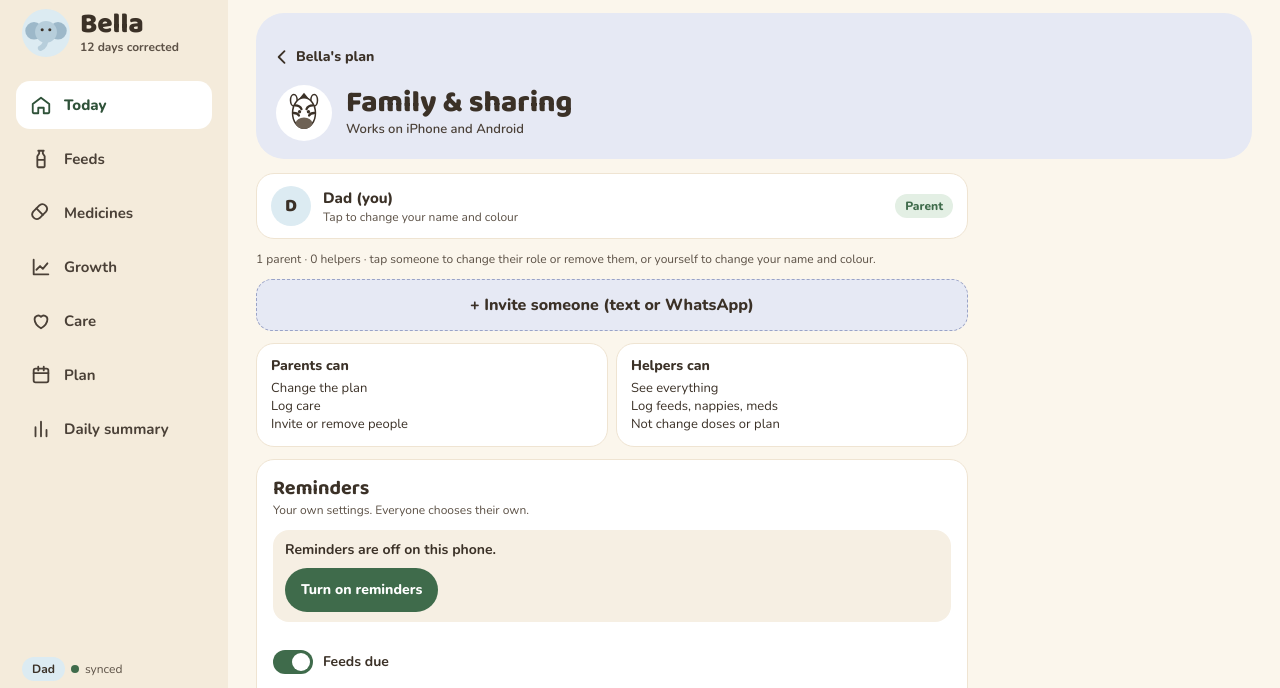
Reminders card › turns reminders on for this phone after a tap, then offers a test
Click the button "Turn on reminders": (362, 590) [285,568,438,612]
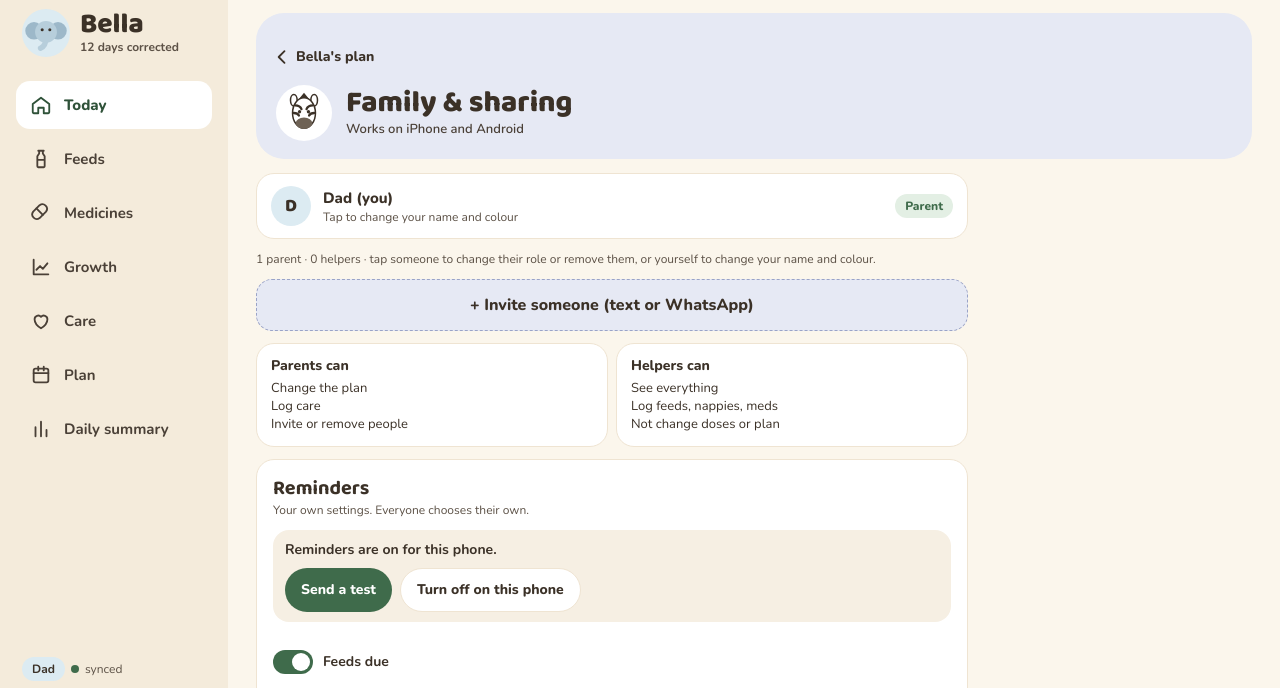
Click the button "Send a test": (338, 590) [285,568,392,612]
(page scrolled)
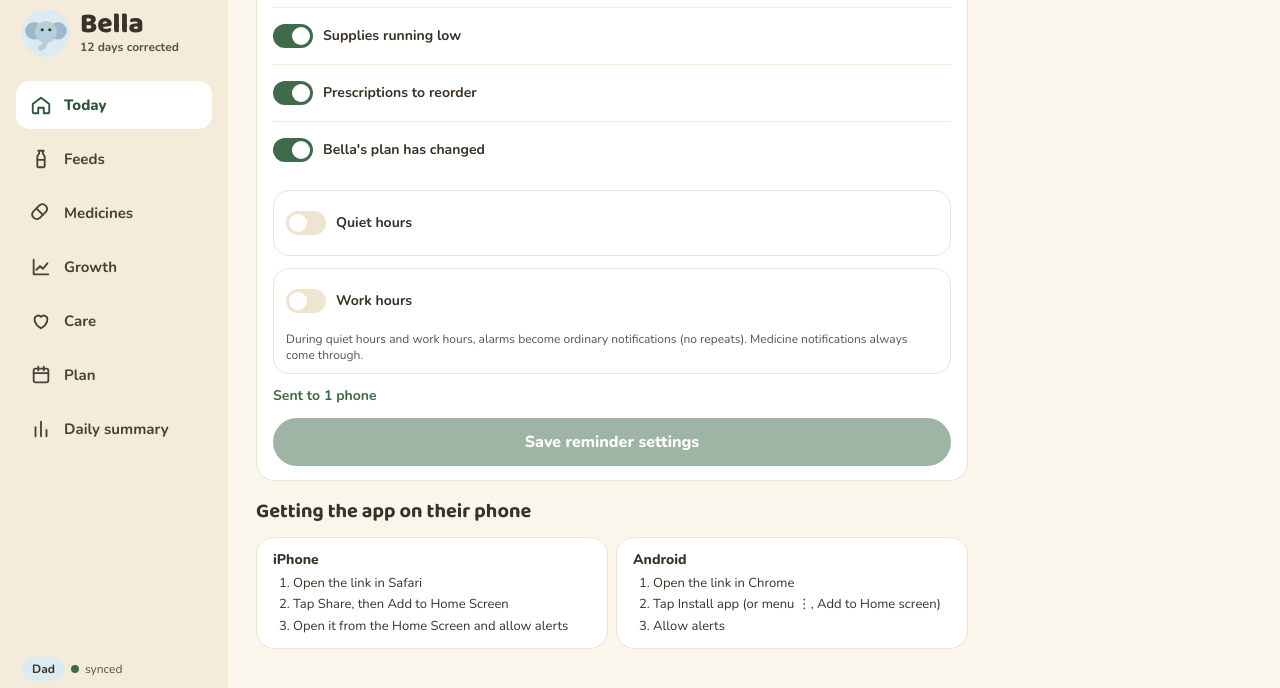
Check: the text "Sent to 1 phone" is shown, box [273,386,377,405]
